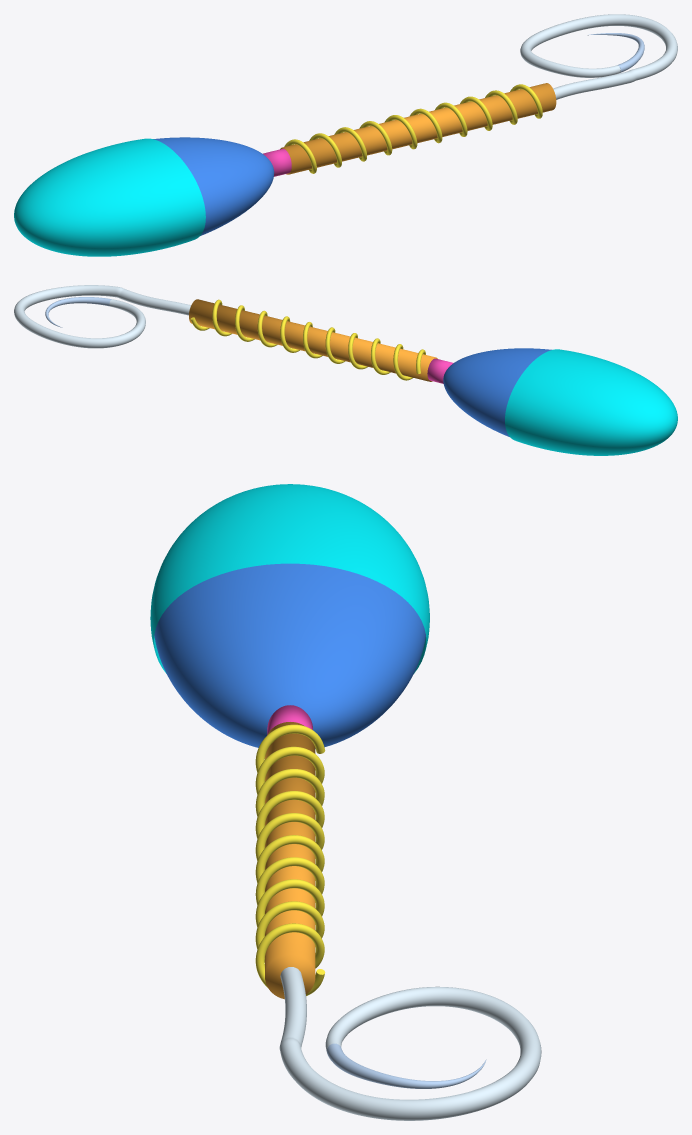
Rendered from 03_Cola_enrollada.glb.
3 views of the same model, one above another, from view 1: azimuth 30°, elevation 25°; view 2: azimuth 150°, elevation 25°; view 3: azimuth 270°, elevation 25° (orthographic). The views are drawn at different scales.
Parts seen in each view (by area): view 1: Cubierta_acrosomal_didactica.001, Pieza_intermedia.001, Cabeza_nucleo.001, Cola_pieza_principal.001, Helice_mitocondrial_didactica.001, Cuello_segmento_conector.001, Cola_pieza_terminal.001; view 2: Cubierta_acrosomal_didactica.001, Pieza_intermedia.001, Cabeza_nucleo.001, Cola_pieza_principal.001, Helice_mitocondrial_didactica.001, Cola_pieza_terminal.001, Cuello_segmento_conector.001; view 3: Cabeza_nucleo.001, Cubierta_acrosomal_didactica.001, Cola_pieza_principal.001, Helice_mitocondrial_didactica.001, Pieza_intermedia.001, Cola_pieza_terminal.001.
Boxes of the visible parts, bbox=[...] form: Cubierta_acrosomal_didactica.001: bbox=[14, 138, 205, 256]; Pieza_intermedia.001: bbox=[280, 83, 556, 174]; Cabeza_nucleo.001: bbox=[153, 137, 274, 235]; Cola_pieza_principal.001: bbox=[520, 14, 677, 99]; Helice_mitocondrial_didactica.001: bbox=[284, 84, 542, 173]; Cuello_segmento_conector.001: bbox=[263, 148, 291, 176]; Cola_pieza_terminal.001: bbox=[587, 33, 644, 72]; Cubierta_acrosomal_didactica.001: bbox=[505, 349, 677, 455]; Pieza_intermedia.001: bbox=[189, 299, 437, 381]; Cabeza_nucleo.001: bbox=[443, 348, 551, 436]; Cola_pieza_principal.001: bbox=[14, 285, 190, 348]; Helice_mitocondrial_didactica.001: bbox=[190, 299, 425, 380]; Cola_pieza_terminal.001: bbox=[45, 297, 111, 327]; Cuello_segmento_conector.001: bbox=[427, 358, 453, 383]; Cabeza_nucleo.001: bbox=[154, 563, 425, 748]; Cubierta_acrosomal_didactica.001: bbox=[150, 484, 429, 673]; Cola_pieza_principal.001: bbox=[279, 967, 541, 1120]; Helice_mitocondrial_didactica.001: bbox=[255, 724, 325, 995]; Pieza_intermedia.001: bbox=[265, 722, 315, 999]; Cola_pieza_terminal.001: bbox=[326, 1043, 486, 1088].
Bounding box in the file's own units: 23.76 × 2.93 × 6.51.
